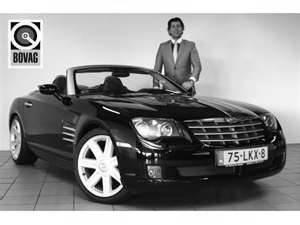car: (7, 61, 290, 205)
